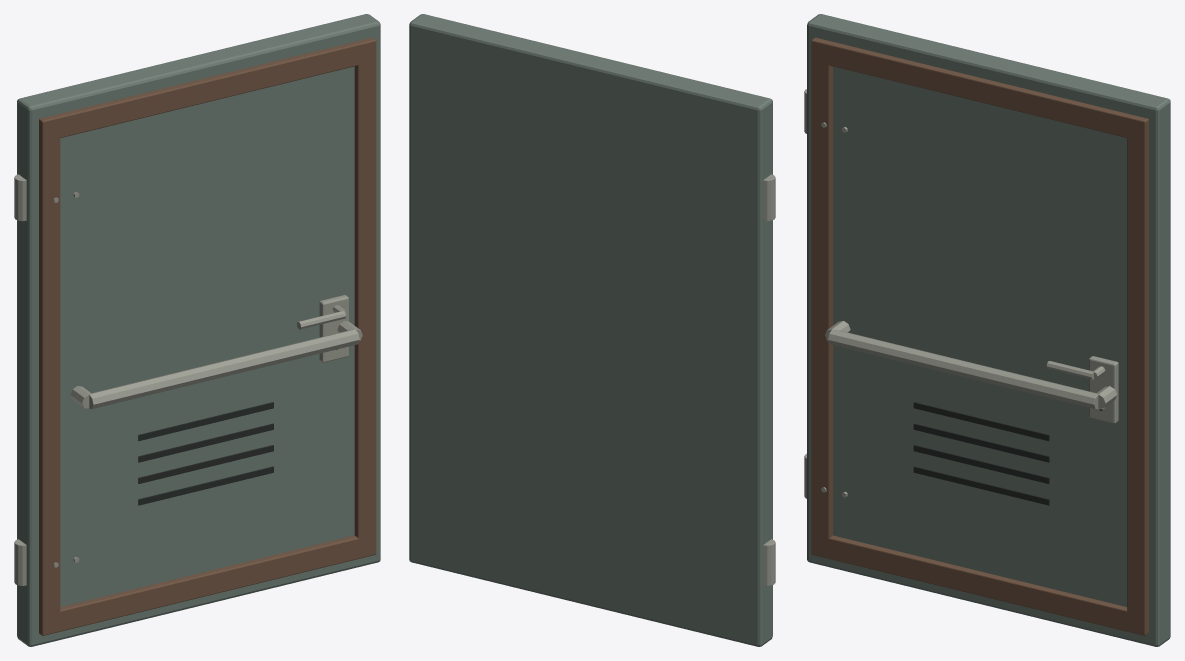
File: door_exit_low.glb
3 views of the same model, side by side, from view 1: azimuth 30°, elevation 25°; view 2: azimuth 150°, elevation 25°; view 3: azimuth 330°, elevation 25° (orthographic).
Visible parts, largest first — view 1: door_exit.001; view 2: door_exit.001; view 3: door_exit.001.
Boxes of the visible parts, left/top/right/bottom form: door_exit.001: left=14, top=14, right=380, bottom=646; door_exit.001: left=409, top=14, right=775, bottom=646; door_exit.001: left=804, top=14, right=1170, bottom=646.
Size of the model in its own units: 1.75 by 2.52 by 0.2921.
